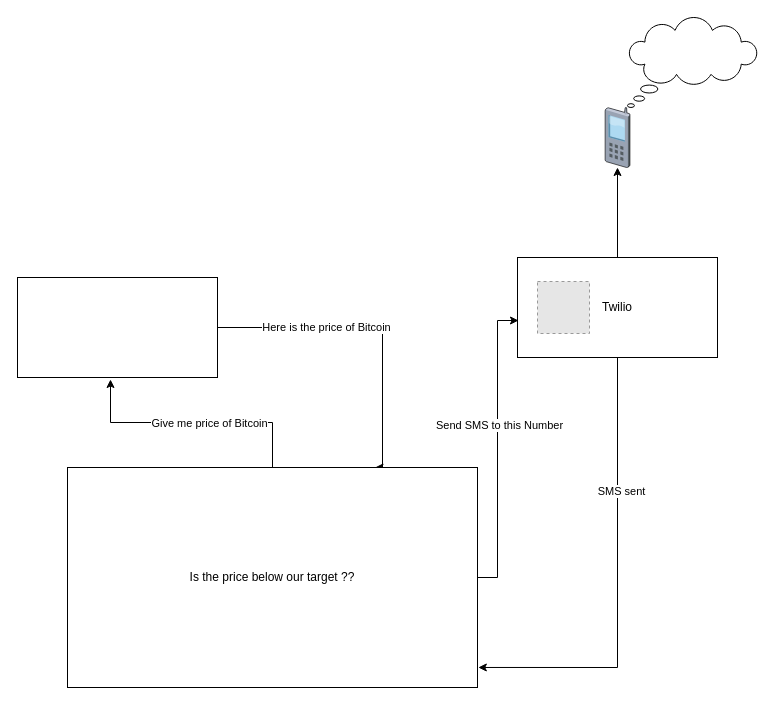
The diagram is 775 pixels wide and 705 high, and some of its shapes have lost their labels. Grey dashed boxes stand in for pictures. Here are the shapes that lost their labels. From the top down, the centre of each, then its label:
(x=692, y=62): ALERT!!
(x=117, y=327): CoinDesk
